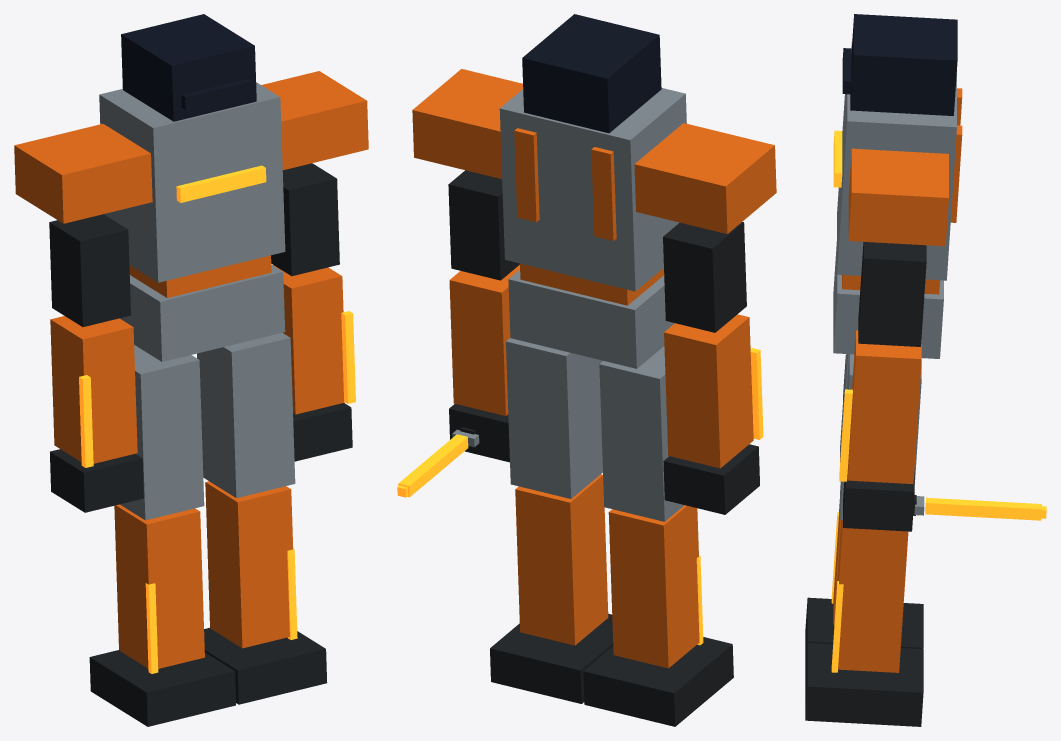
The model's file is runnerbot.glb.
3 renders of one model, left to right at view 1: azimuth 30°, elevation 25°; view 2: azimuth 150°, elevation 25°; view 3: azimuth 270°, elevation 25°, orthographic. The views are drawn at different scales.
Size of the model in its own units: 2.28 by 4.55 by 1.54.
